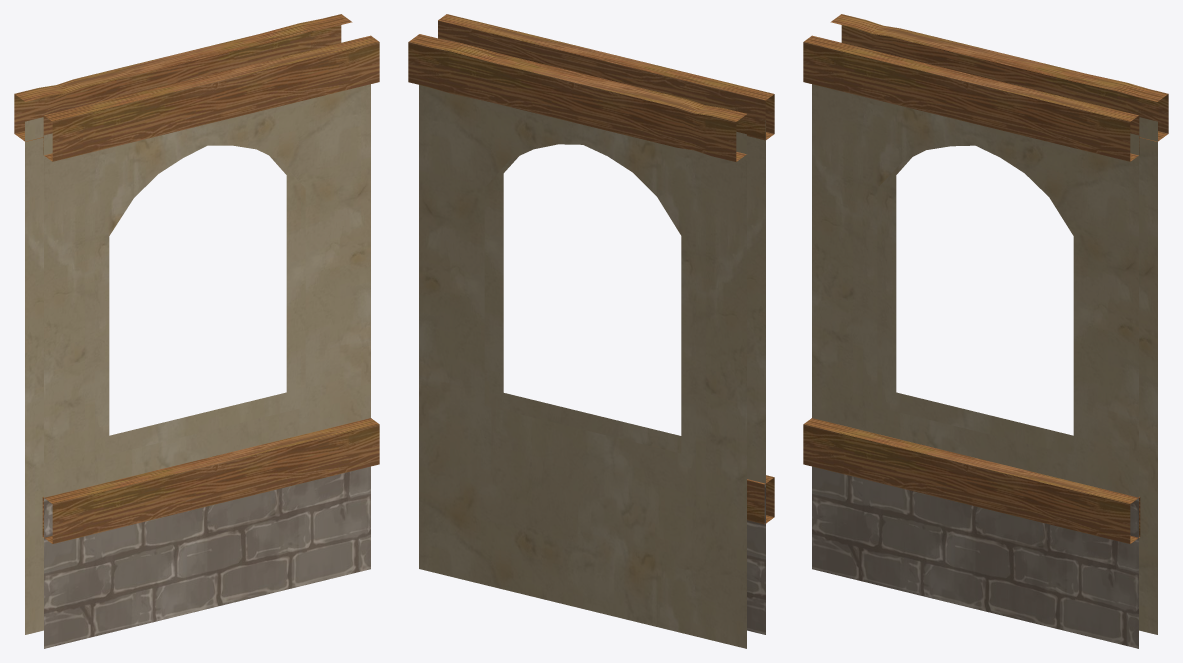
The model's file is Wall_Plaster_Window_Wide_Round.glb.
The picture shows the model from 3 angles, left to right: view 1: azimuth 30°, elevation 25°; view 2: azimuth 150°, elevation 25°; view 3: azimuth 330°, elevation 25°; orthographic projection.
Visible parts, largest first — view 1: Wall_Plaster_Window_Wide_Round; view 2: Wall_Plaster_Window_Wide_Round; view 3: Wall_Plaster_Window_Wide_Round.
Part boxes in pixels (<box>): Wall_Plaster_Window_Wide_Round: <box>14,14,379,648</box>; Wall_Plaster_Window_Wide_Round: <box>408,14,774,648</box>; Wall_Plaster_Window_Wide_Round: <box>803,14,1168,648</box>.
Size of the model in its own units: 2 by 3.12 by 0.4065.
Materials: 3 (3 with a texture image).
